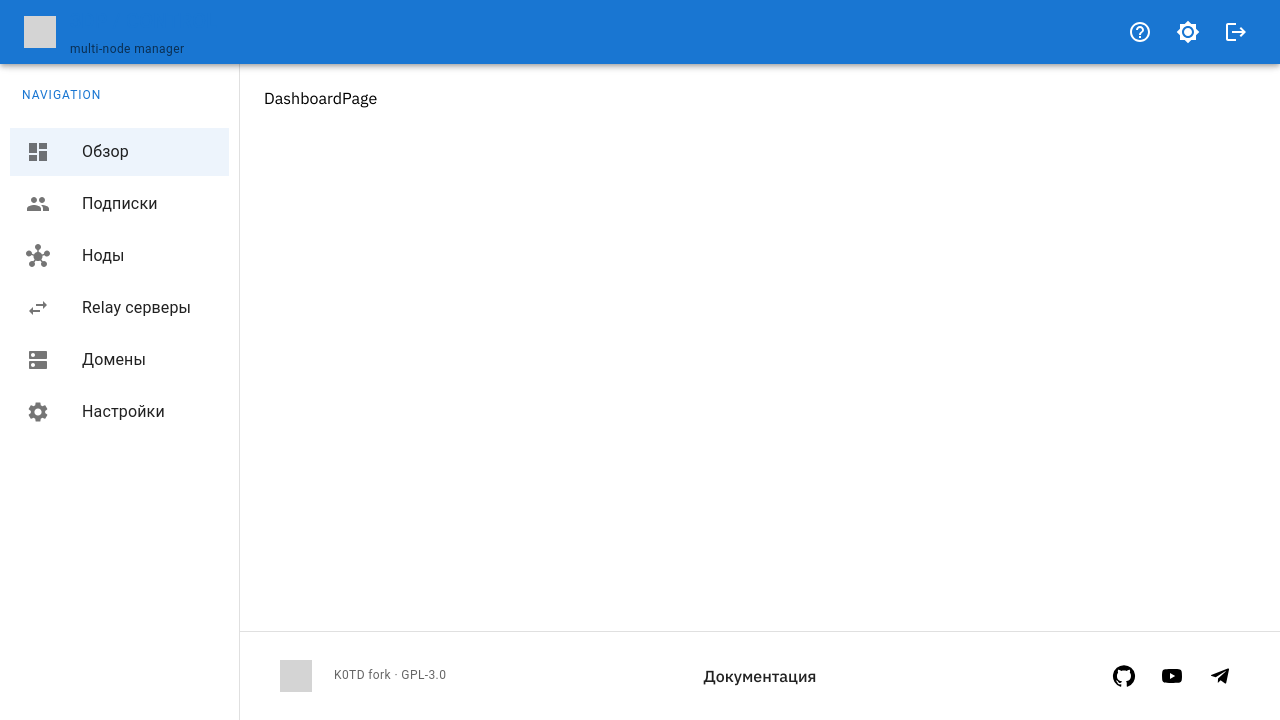
Test: Layout › должен переходить на страницу туннелей при клике на "Перенаправление"
Click the button "Relay серверы" at [109, 308], box [26,296,191,320]
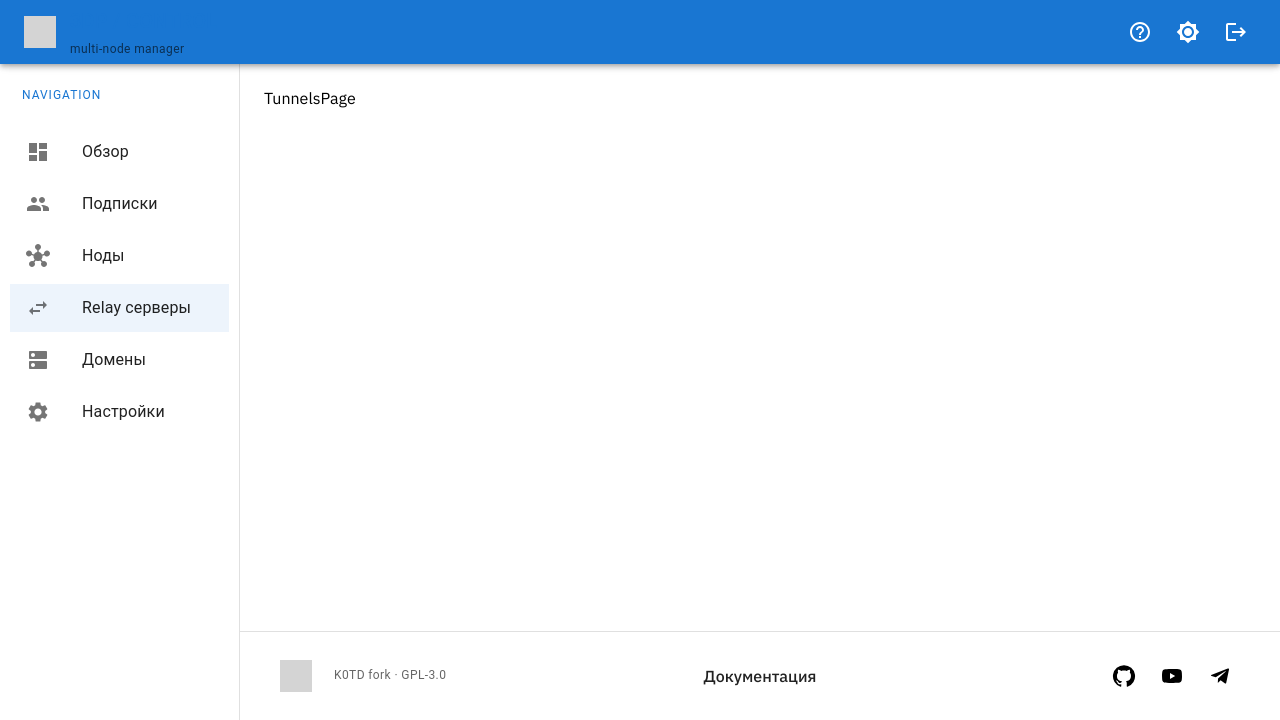
Result: the text "TunnelsPage" is shown at [264,88,356,108]
